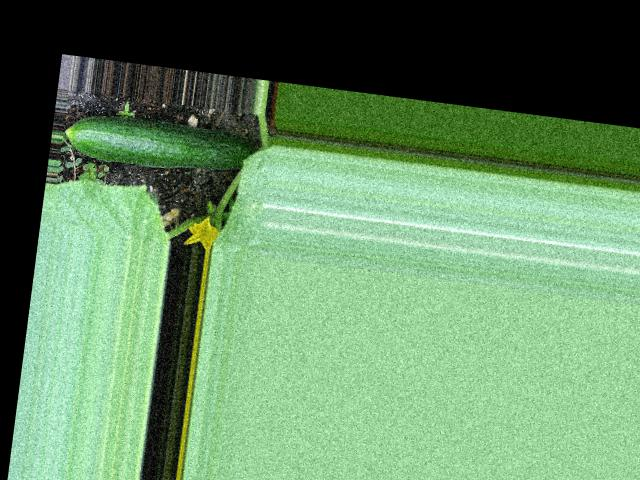cucumber: (61, 108, 257, 179)
